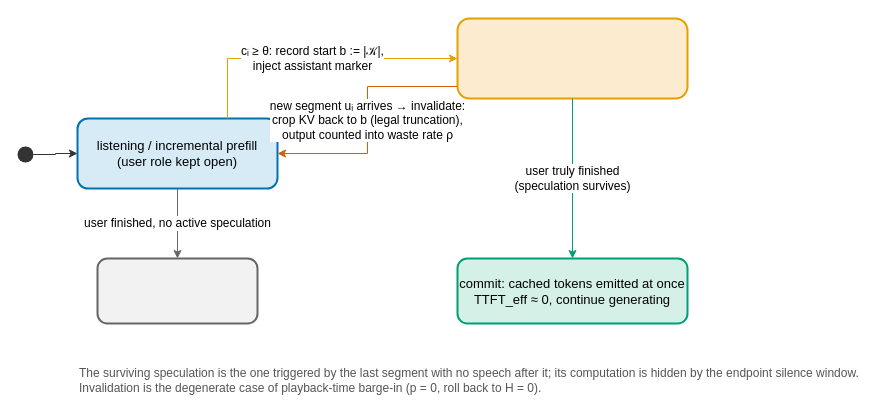
Image size: 876x419. Some labels were removed from this diagram. The centre of each missing label's shape, as x and y in pixels:
"on-the-spot generation (pay full TTFT)" belongs at (177,290).
"speculating (assistant marker injected, pre-generate ≤ B tokens, cached)" belongs at (572,58).
